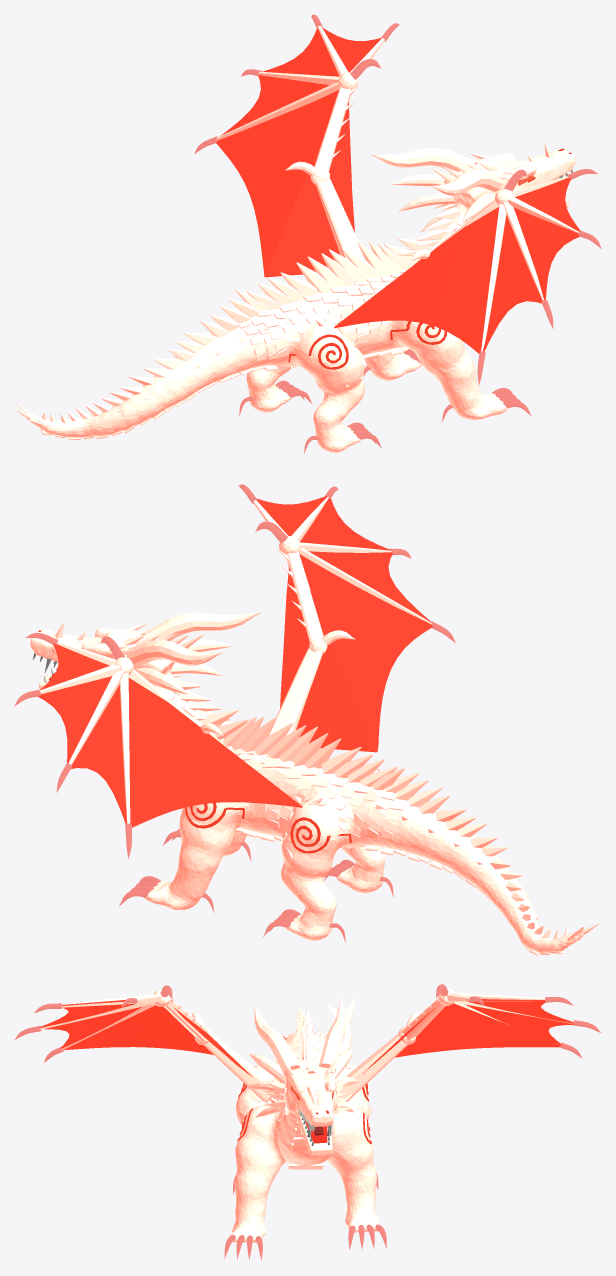
Rendered from lavadrache.glb.
3 renders of one model, top to bottom at view 1: azimuth 30°, elevation 25°; view 2: azimuth 150°, elevation 25°; view 3: azimuth 270°, elevation 25°, orthographic. The views are drawn at different scales.
Visible parts, largest first — view 1: Drache_Drachenstein, Drache_Fluegelhaut, Drache_Panzer, Drache_Kopfstein, Drache_Kristall, Drache_Gluehen; view 2: Drache_Drachenstein, Drache_Fluegelhaut, Drache_Panzer, Drache_Kristall, Drache_Kopfstein, Drache_Gluehen; view 3: Drache_Drachenstein, Drache_Fluegelhaut, Drache_Kopfstein, Drache_Kristall, Drache_Panzer, Drache_Gluehen.
Part boxes in pixels (x1,y1,x2,y2): Drache_Drachenstein: [14, 26, 578, 452]; Drache_Fluegelhaut: [216, 27, 580, 353]; Drache_Panzer: [237, 207, 470, 387]; Drache_Kopfstein: [40, 144, 575, 439]; Drache_Kristall: [194, 14, 601, 454]; Drache_Gluehen: [288, 148, 571, 369]; Drache_Drachenstein: [40, 496, 601, 953]; Drache_Fluegelhaut: [38, 496, 432, 827]; Drache_Panzer: [162, 689, 415, 862]; Drache_Kristall: [14, 484, 455, 942]; Drache_Kopfstein: [30, 623, 565, 955]; Drache_Gluehen: [38, 630, 379, 853]; Drache_Drachenstein: [40, 988, 573, 1243]; Drache_Fluegelhaut: [40, 999, 574, 1076]; Drache_Kopfstein: [283, 1024, 337, 1169]; Drache_Kristall: [14, 984, 601, 1260]; Drache_Panzer: [238, 1035, 372, 1128]; Drache_Gluehen: [237, 1083, 371, 1144].
Size of the model in its own units: 13.84 by 7.06 by 14.26.
